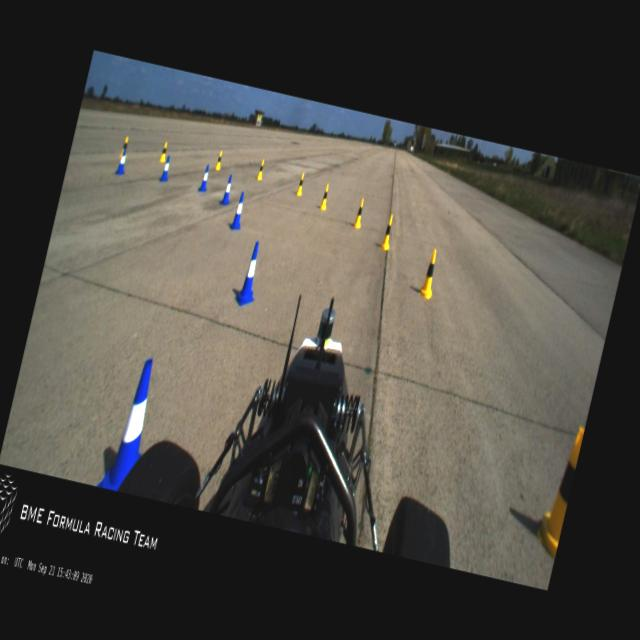blue_cone: (98, 354, 162, 494), (233, 239, 266, 309), (228, 190, 248, 232), (220, 173, 234, 206), (198, 164, 211, 192), (115, 148, 128, 176), (160, 154, 172, 182)
yellow_cone: (532, 422, 584, 559), (418, 248, 441, 300), (380, 213, 396, 251), (352, 197, 366, 227), (318, 182, 331, 210), (118, 136, 130, 158), (295, 172, 306, 196), (159, 140, 169, 162), (256, 158, 266, 180), (214, 151, 224, 170)
